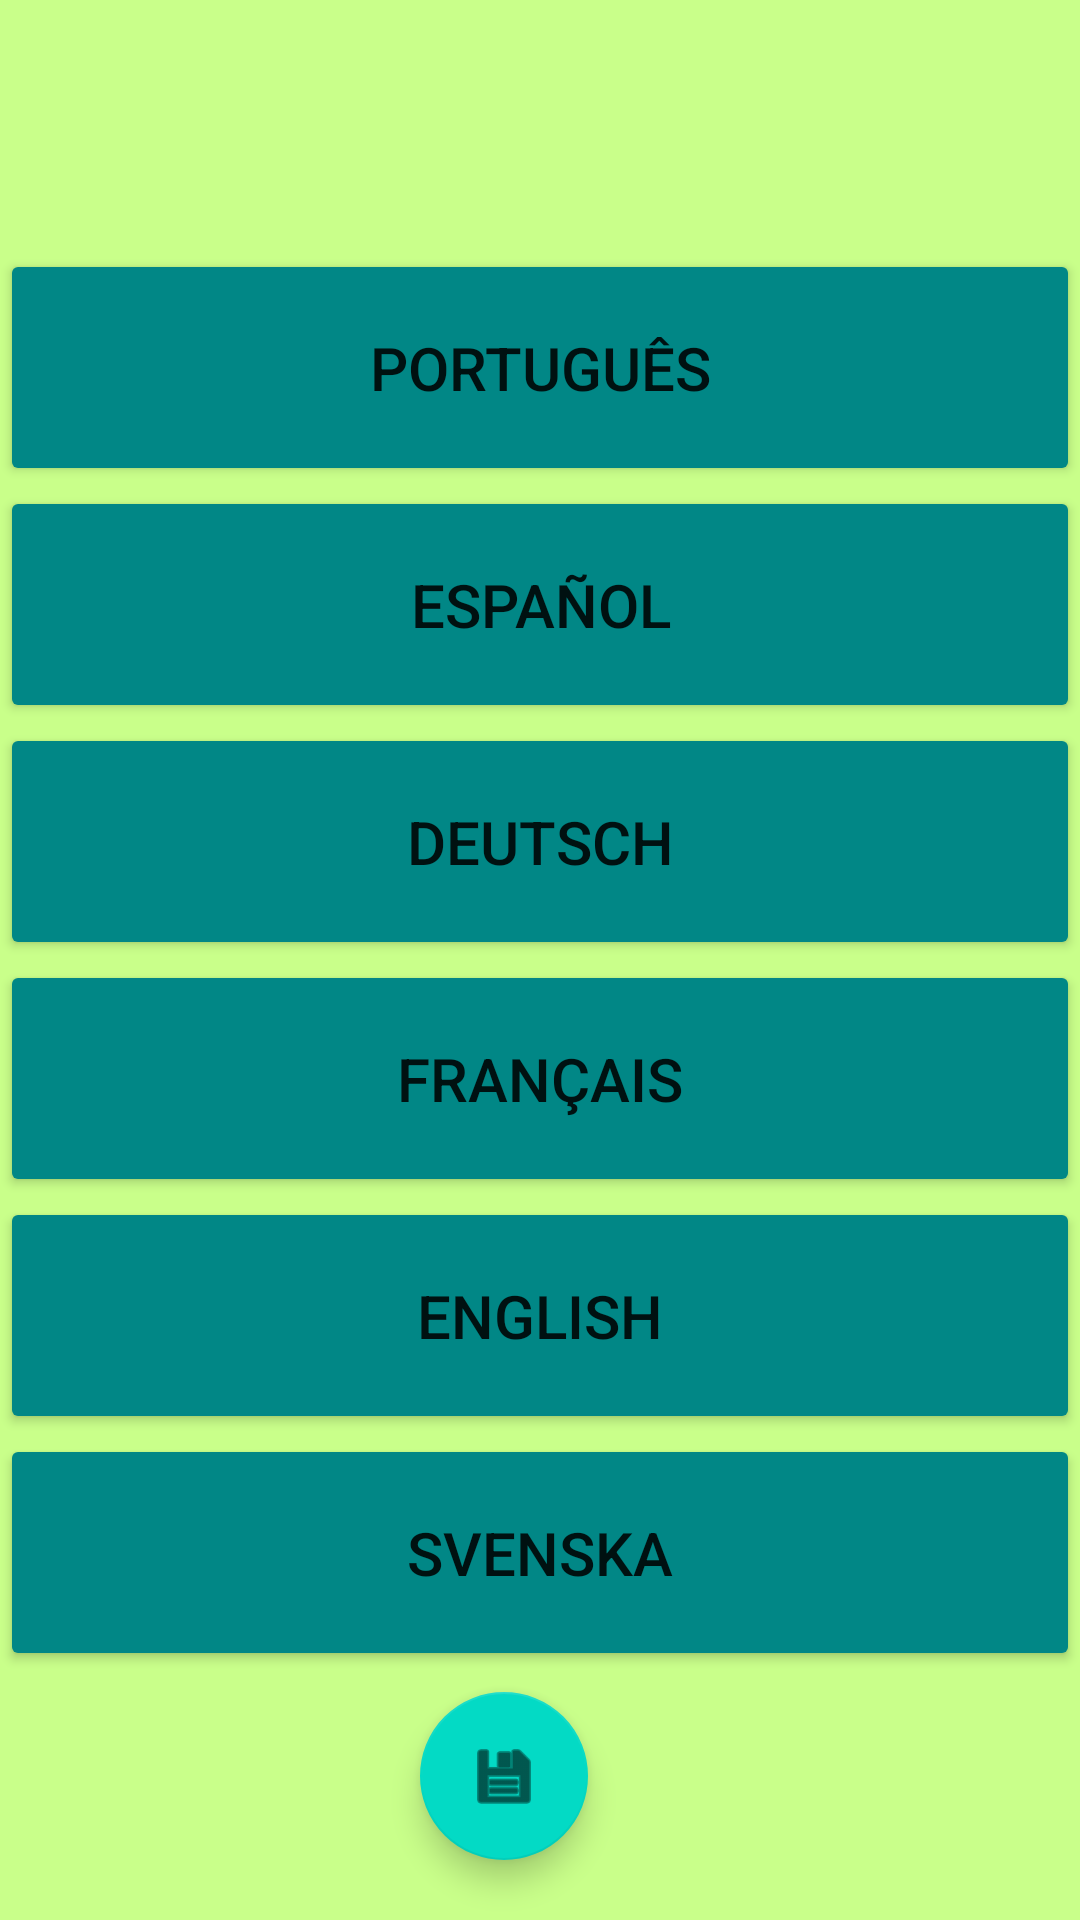

Locate icon controls on the screen. Image size 1080px x 1920px, boxes as (x1, y1, x2, y2).
save: (420, 1692, 588, 1860)
